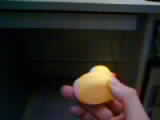duck: (71, 66, 122, 107)
